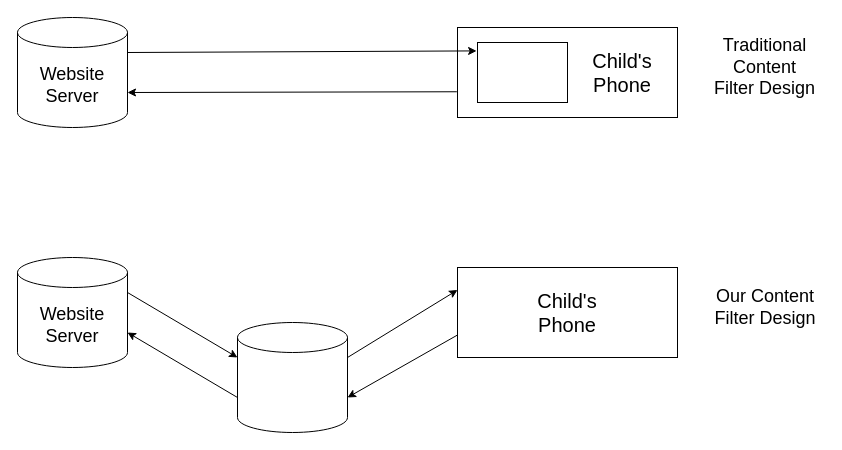
Image size: 842x450. Some labels were removed from this diagram. Each missing label, with the centre of its shape:
Parent Control Server: point (292, 377)
Web Filtering: point (522, 72)
